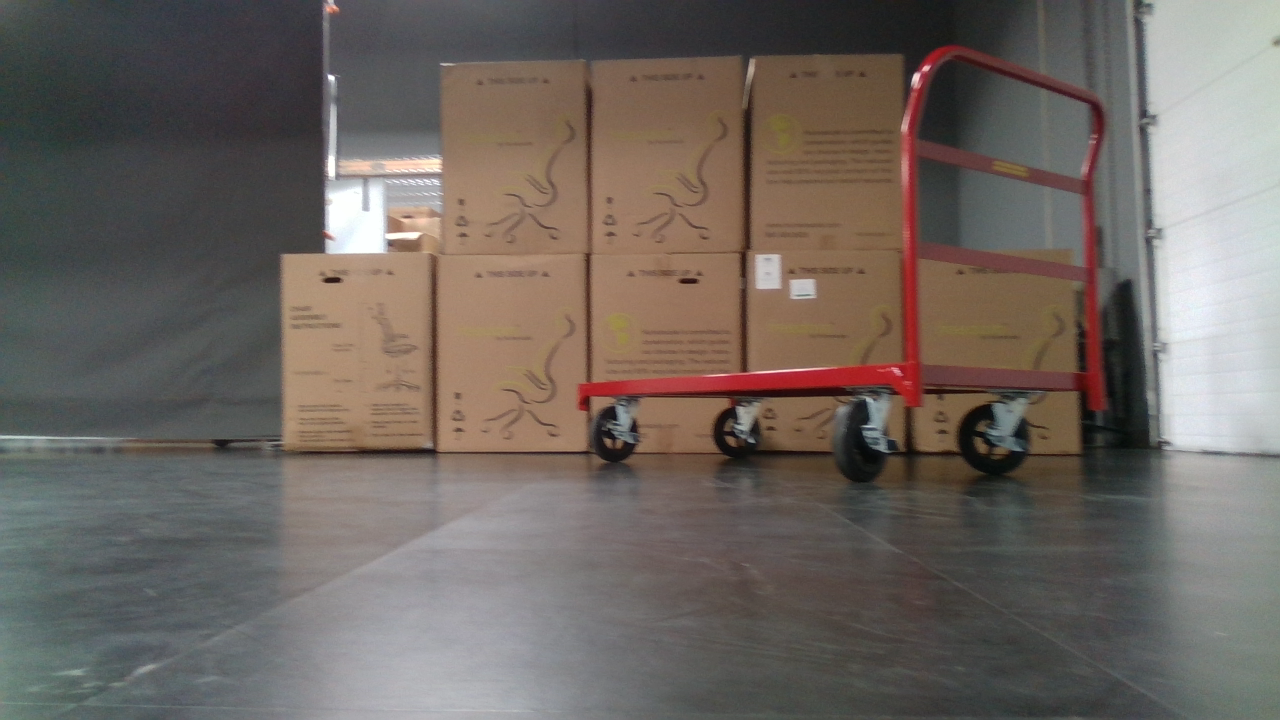Dolly: (574, 42, 1111, 484)
Wheel: (958, 404, 1031, 473), (827, 404, 889, 482), (588, 408, 639, 461), (710, 407, 760, 457)
